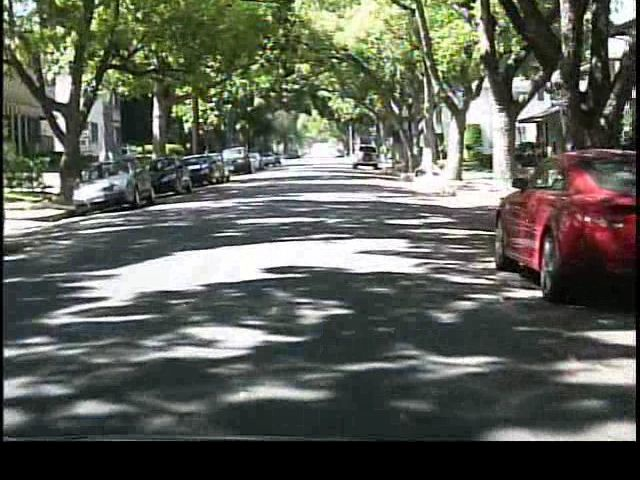person: (95, 144, 118, 195)
